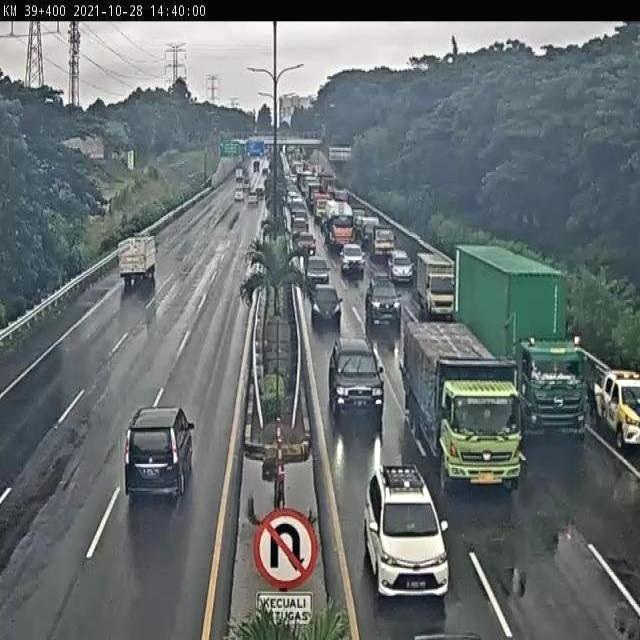Truck: (406, 323, 527, 510), (467, 250, 584, 439), (372, 225, 394, 259)
